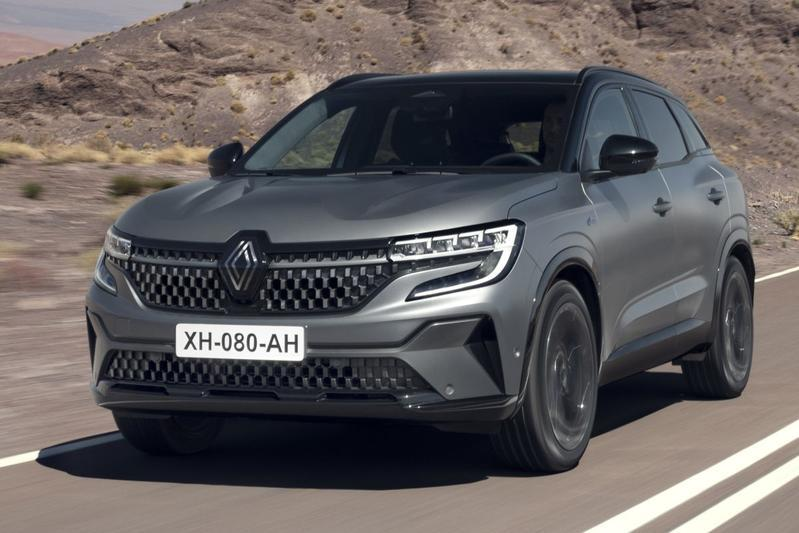Renault: (217, 232, 265, 305)
